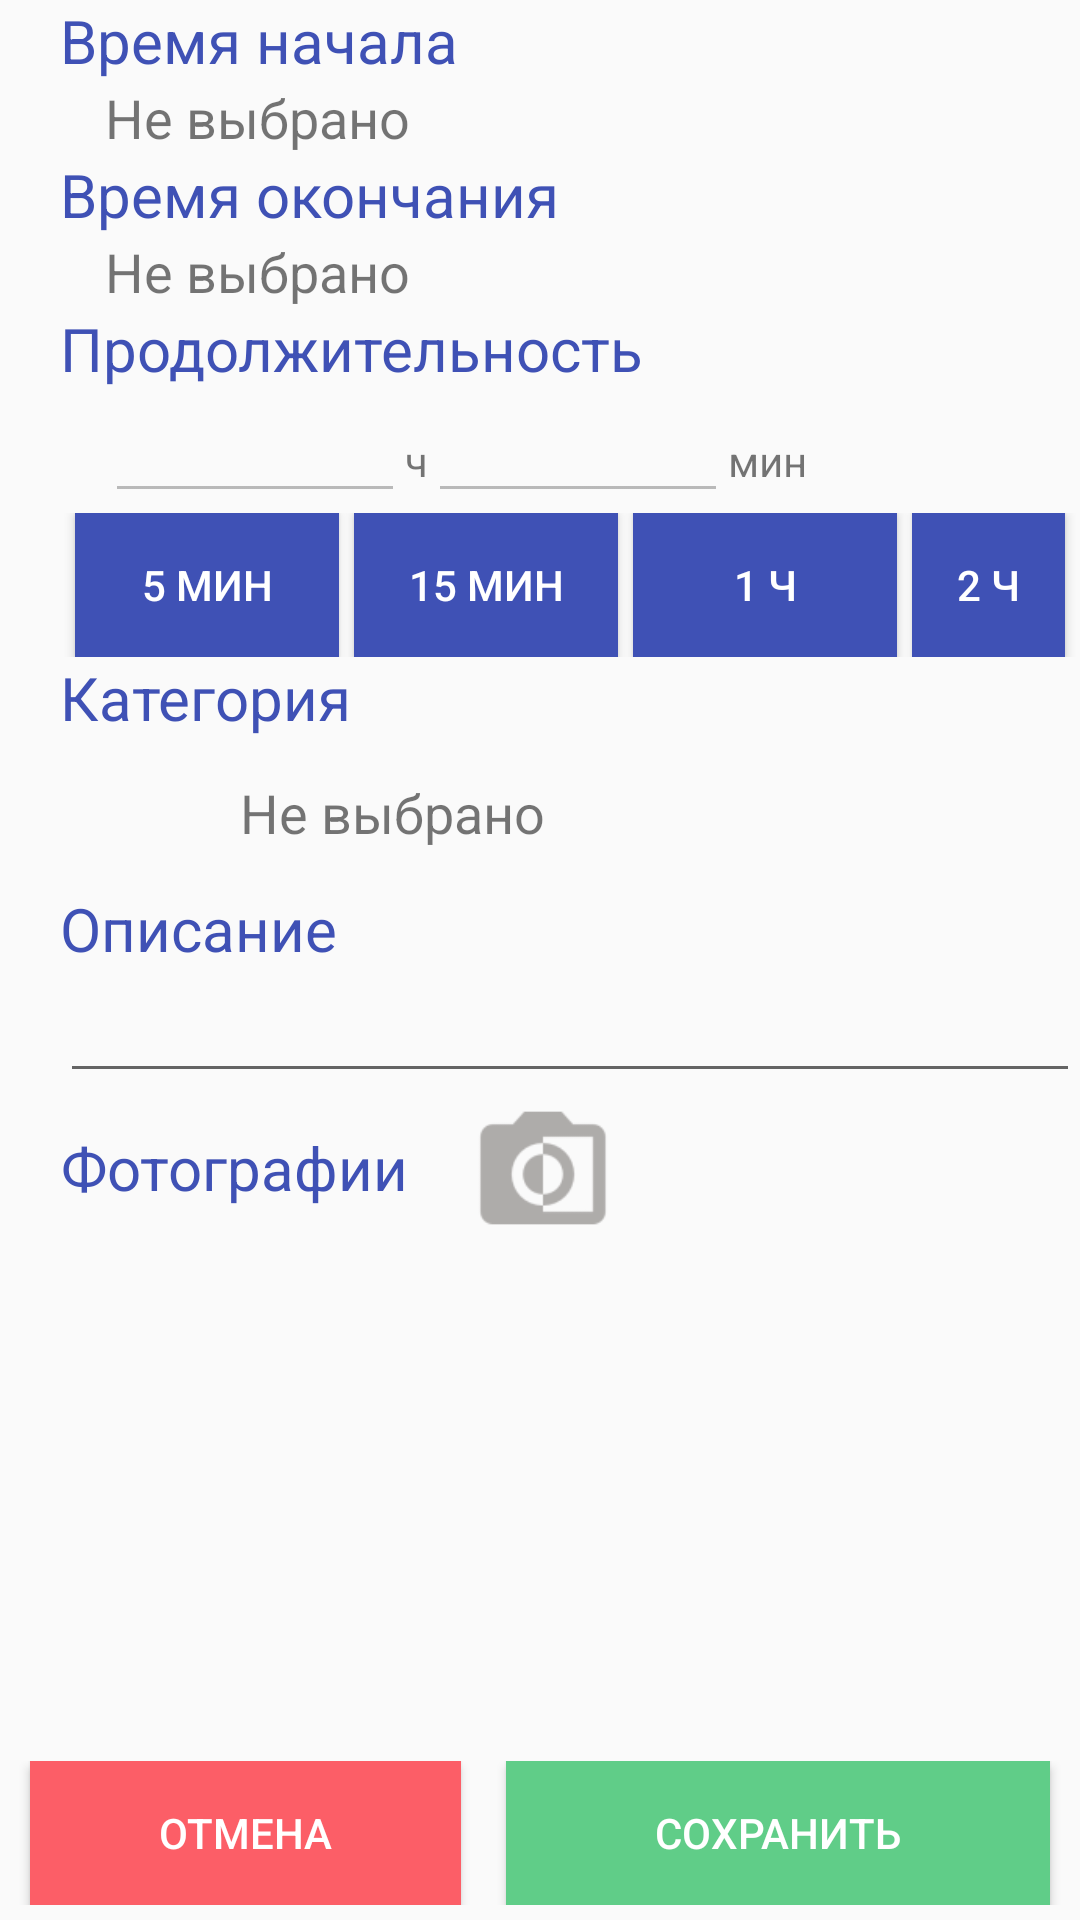

Named icons in this screenshot (1080×1920) and their centers, (x,y):
insert photo: (543,1168)
